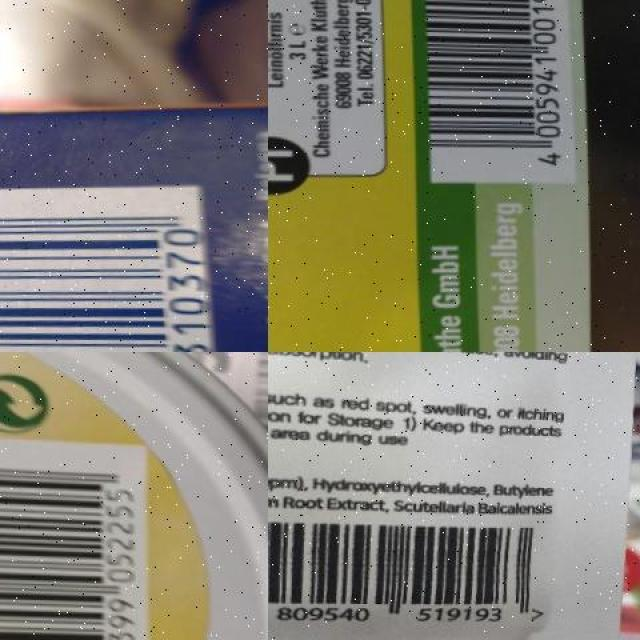Barcode: (0, 173, 227, 352), (268, 513, 552, 627), (0, 440, 152, 640), (419, 0, 572, 184)
